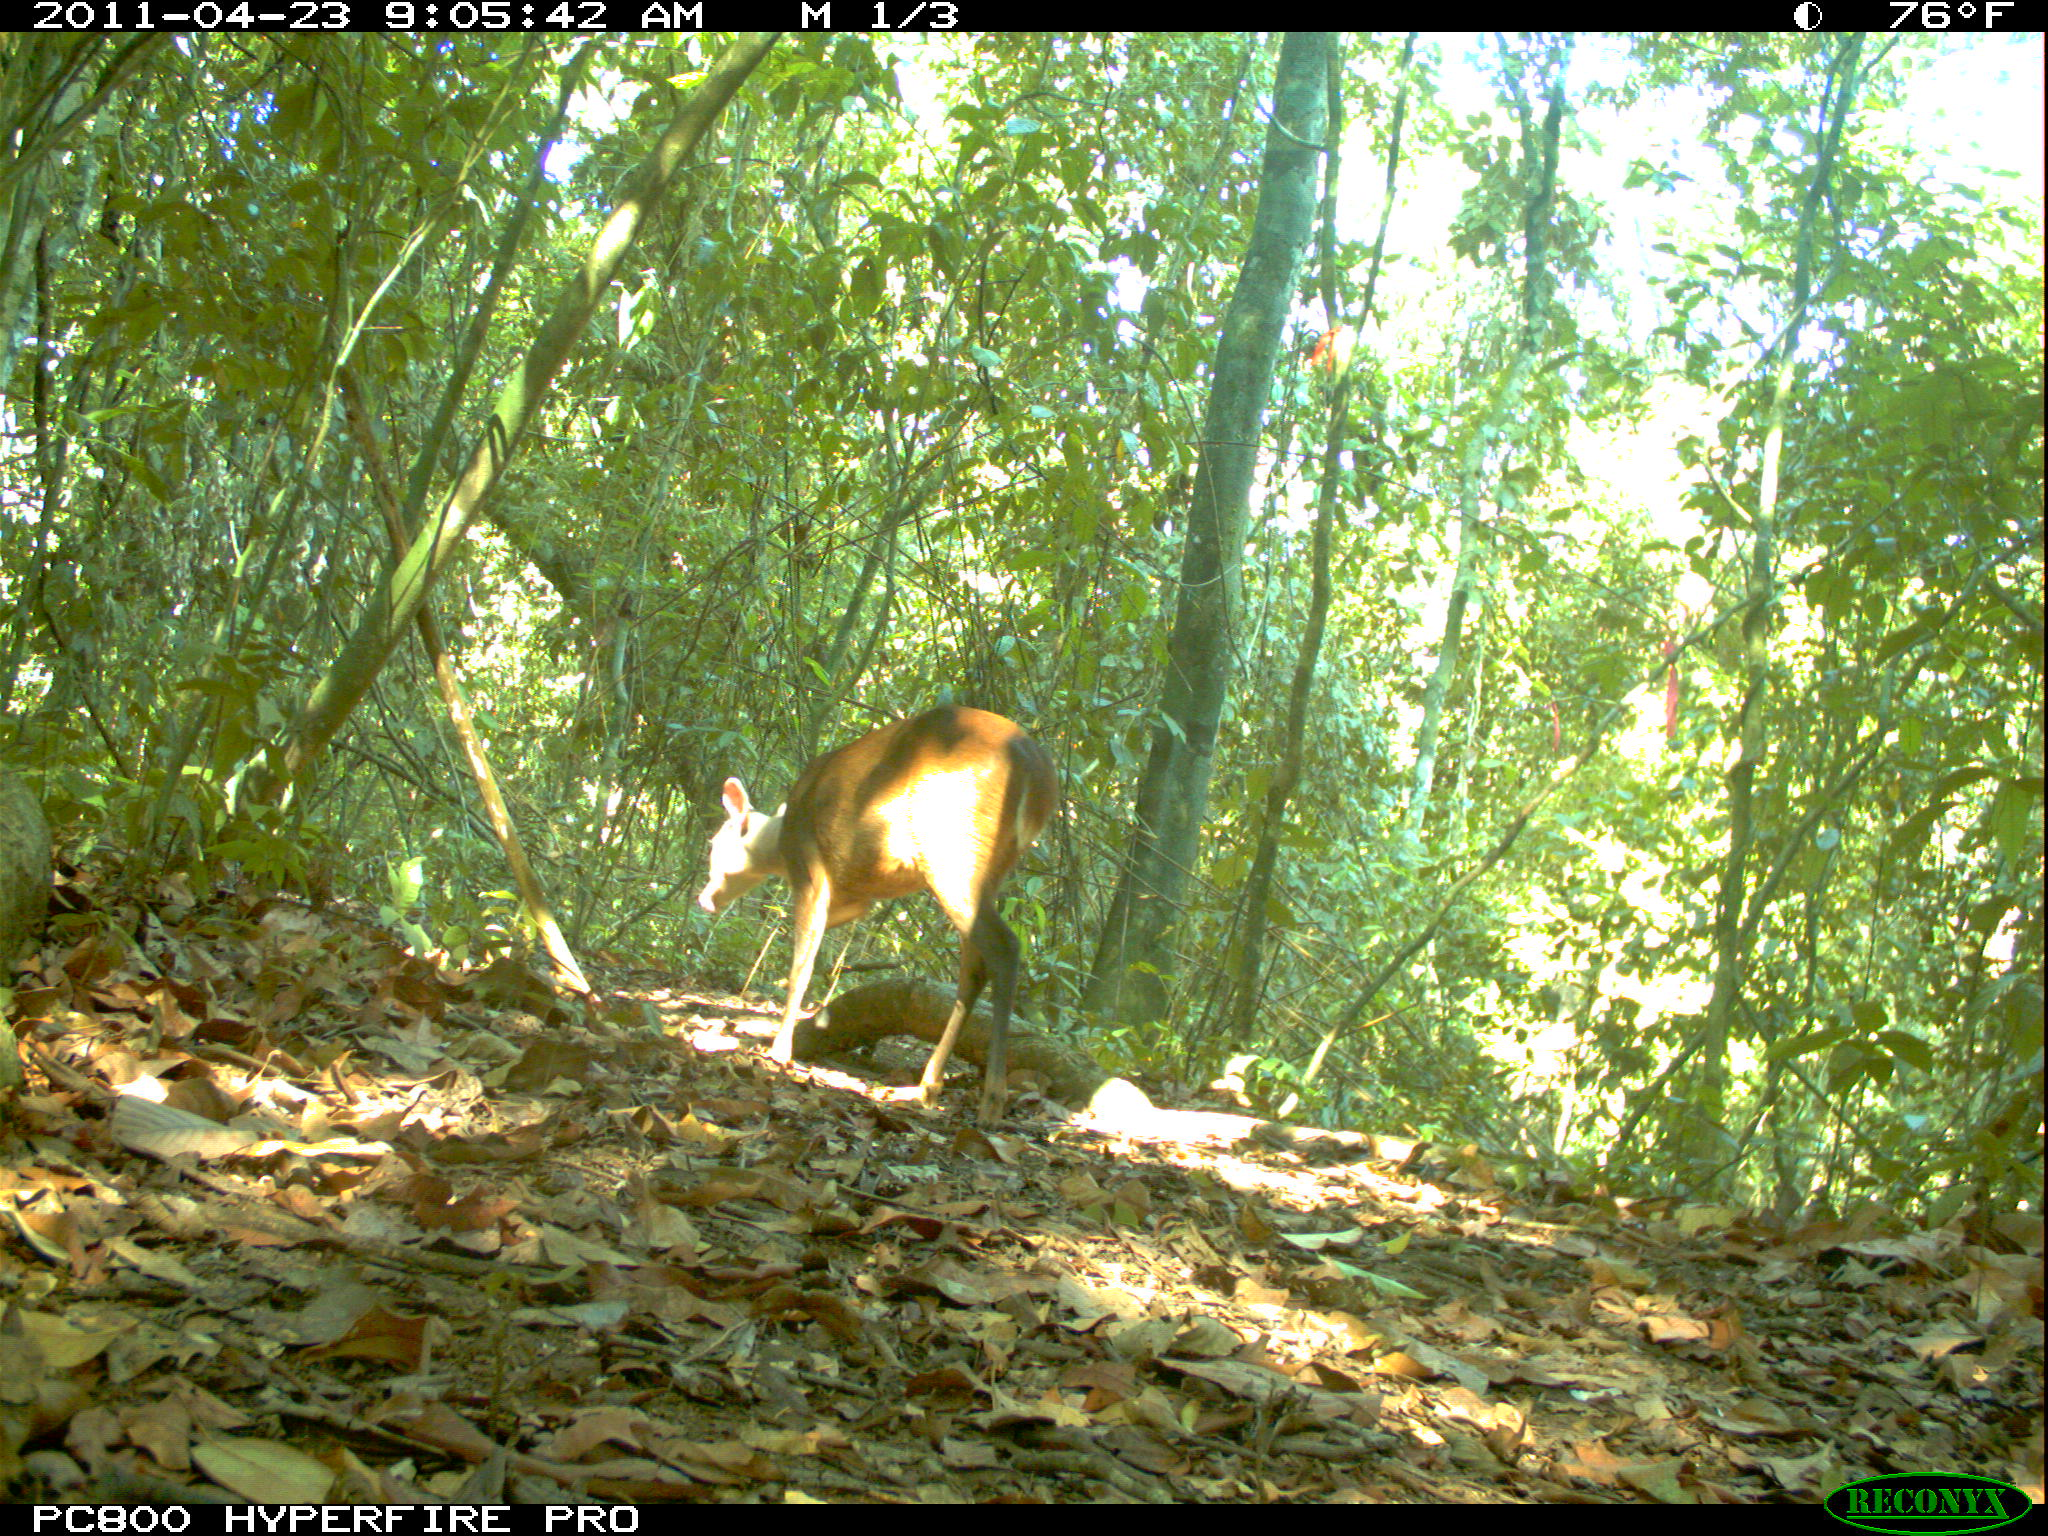Deer: (689, 694, 1066, 1113)
